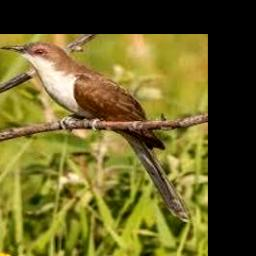Cuckoo: (0, 42, 192, 221)
